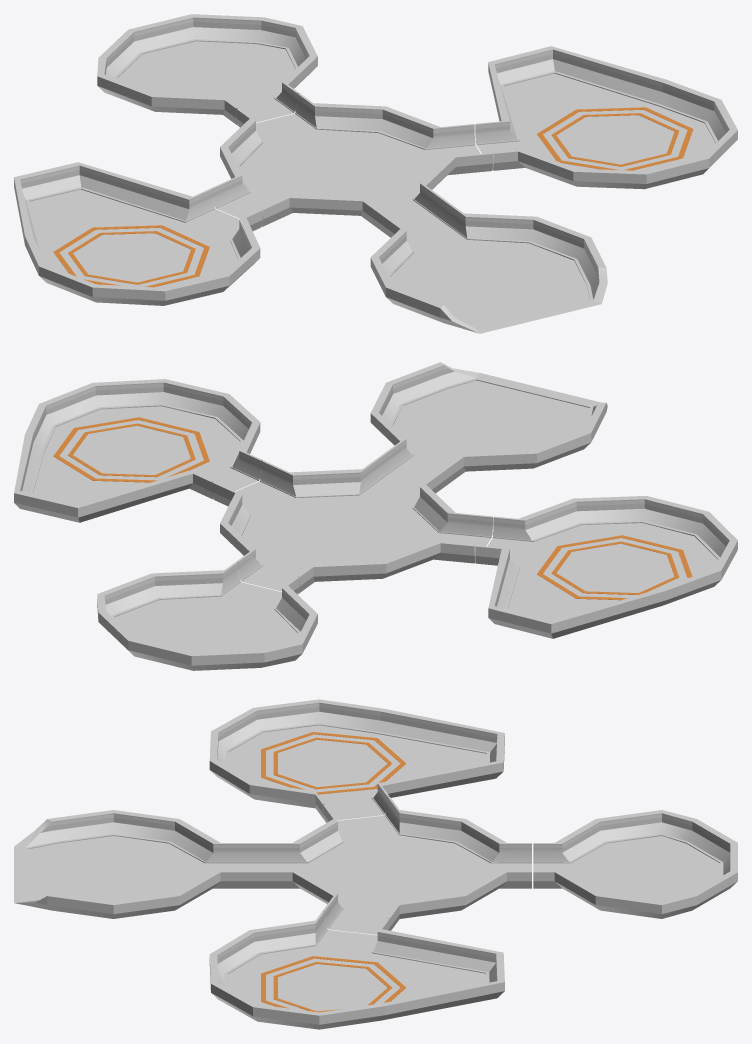
The model's file is LastSpace.fbx.
3 renders of one model, top to bottom at view 1: azimuth 30°, elevation 25°; view 2: azimuth 150°, elevation 25°; view 3: azimuth 270°, elevation 25°, orthographic. The views are drawn at different scales.
Parts seen in each view (by area): view 1: Circle.024, Circle.021, Circle.040; view 2: Circle.024, Circle.021, Circle.040; view 3: Circle.024, Circle.021, Circle.040.
Boxes of the visible parts, box(x1,y1,x2,y2) form: Circle.024: box(14, 46, 737, 305); Circle.021: box(212, 93, 607, 333); Circle.040: box(97, 14, 317, 125); Circle.024: box(14, 379, 737, 638); Circle.021: box(212, 362, 607, 594); Circle.040: box(97, 562, 317, 670); Circle.024: box(209, 699, 504, 1029); Circle.021: box(14, 797, 531, 934); Circle.040: box(533, 810, 737, 918).
Bounding box in the file's own units: 664 × 18.51 × 642.
